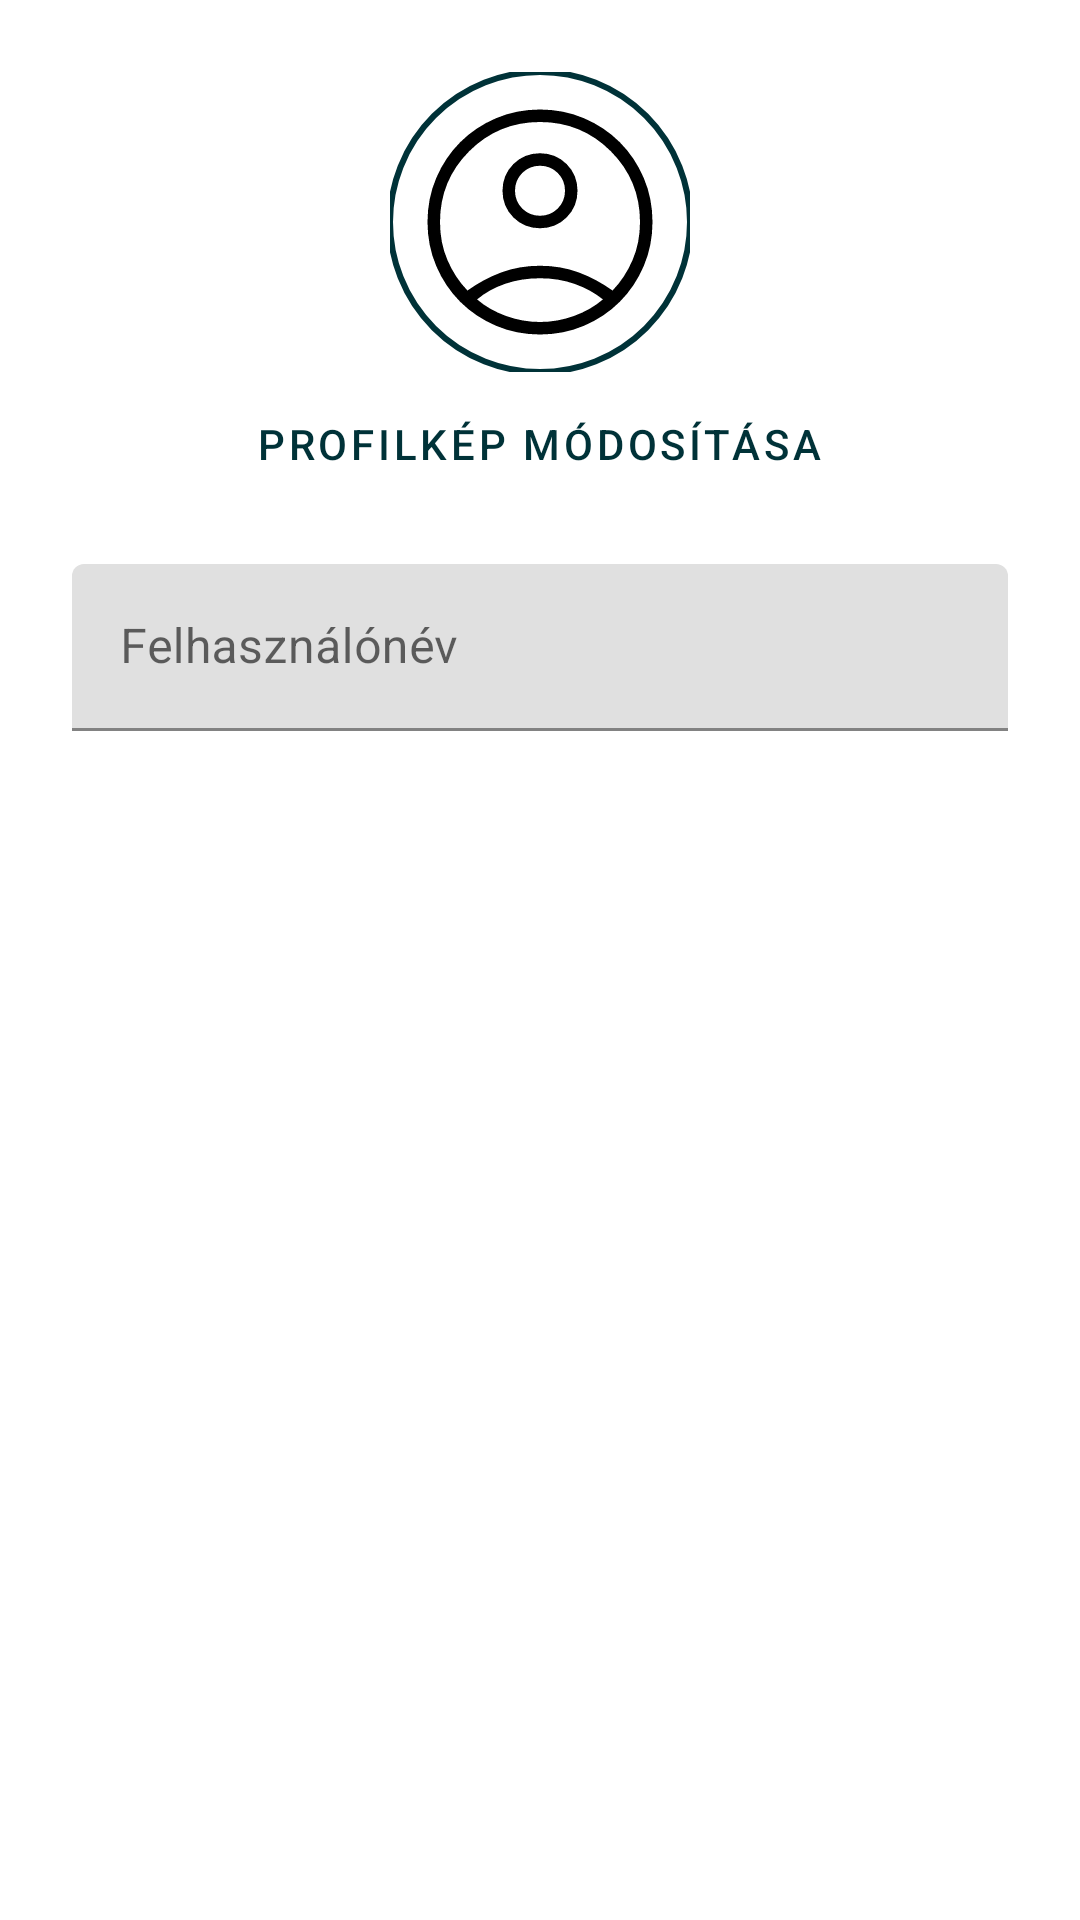

Icons on this 1080 x 1920 Android screen, each with the point to tap as [x,y]:
account circle: [540,222]
